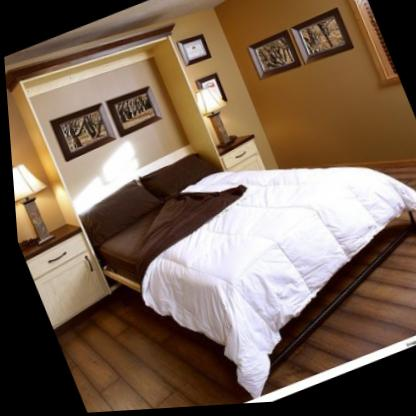Bed: (45, 76, 416, 414)
